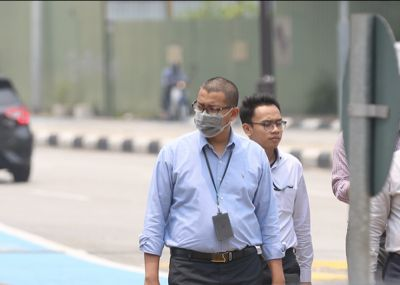no-mask: (241, 96, 289, 150)
with-mask: (186, 78, 240, 141)
